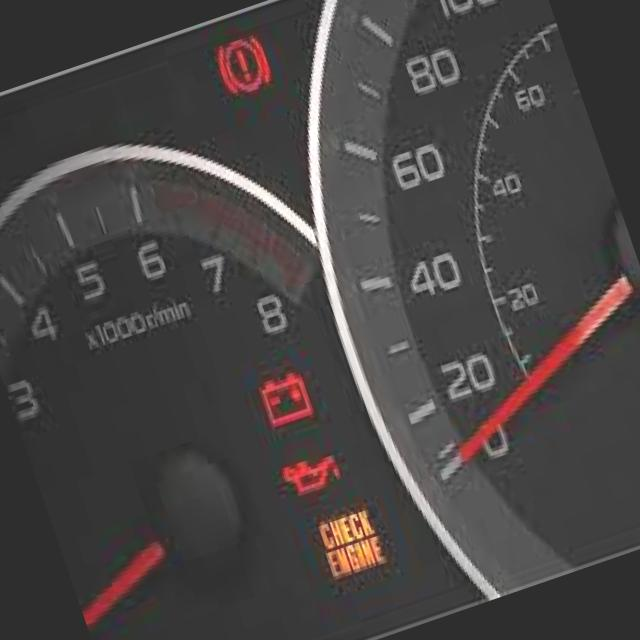kontrolka: (245, 356, 336, 454), (204, 24, 286, 116), (272, 442, 360, 512)
